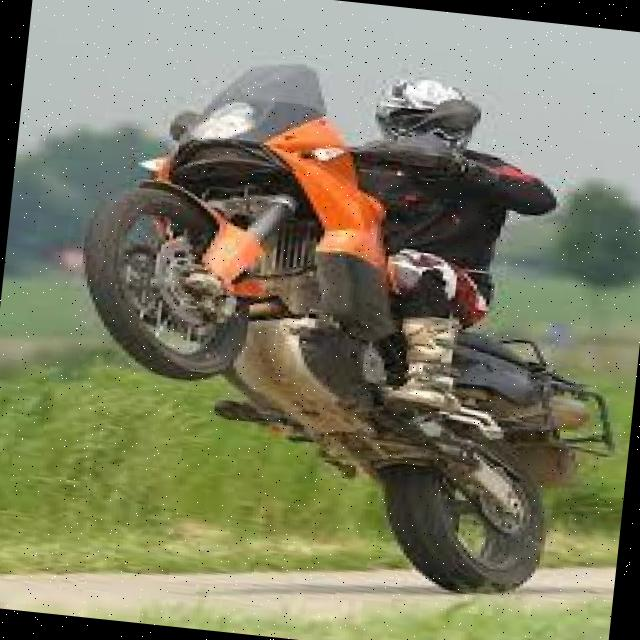Wheeling: (68, 7, 607, 604)
